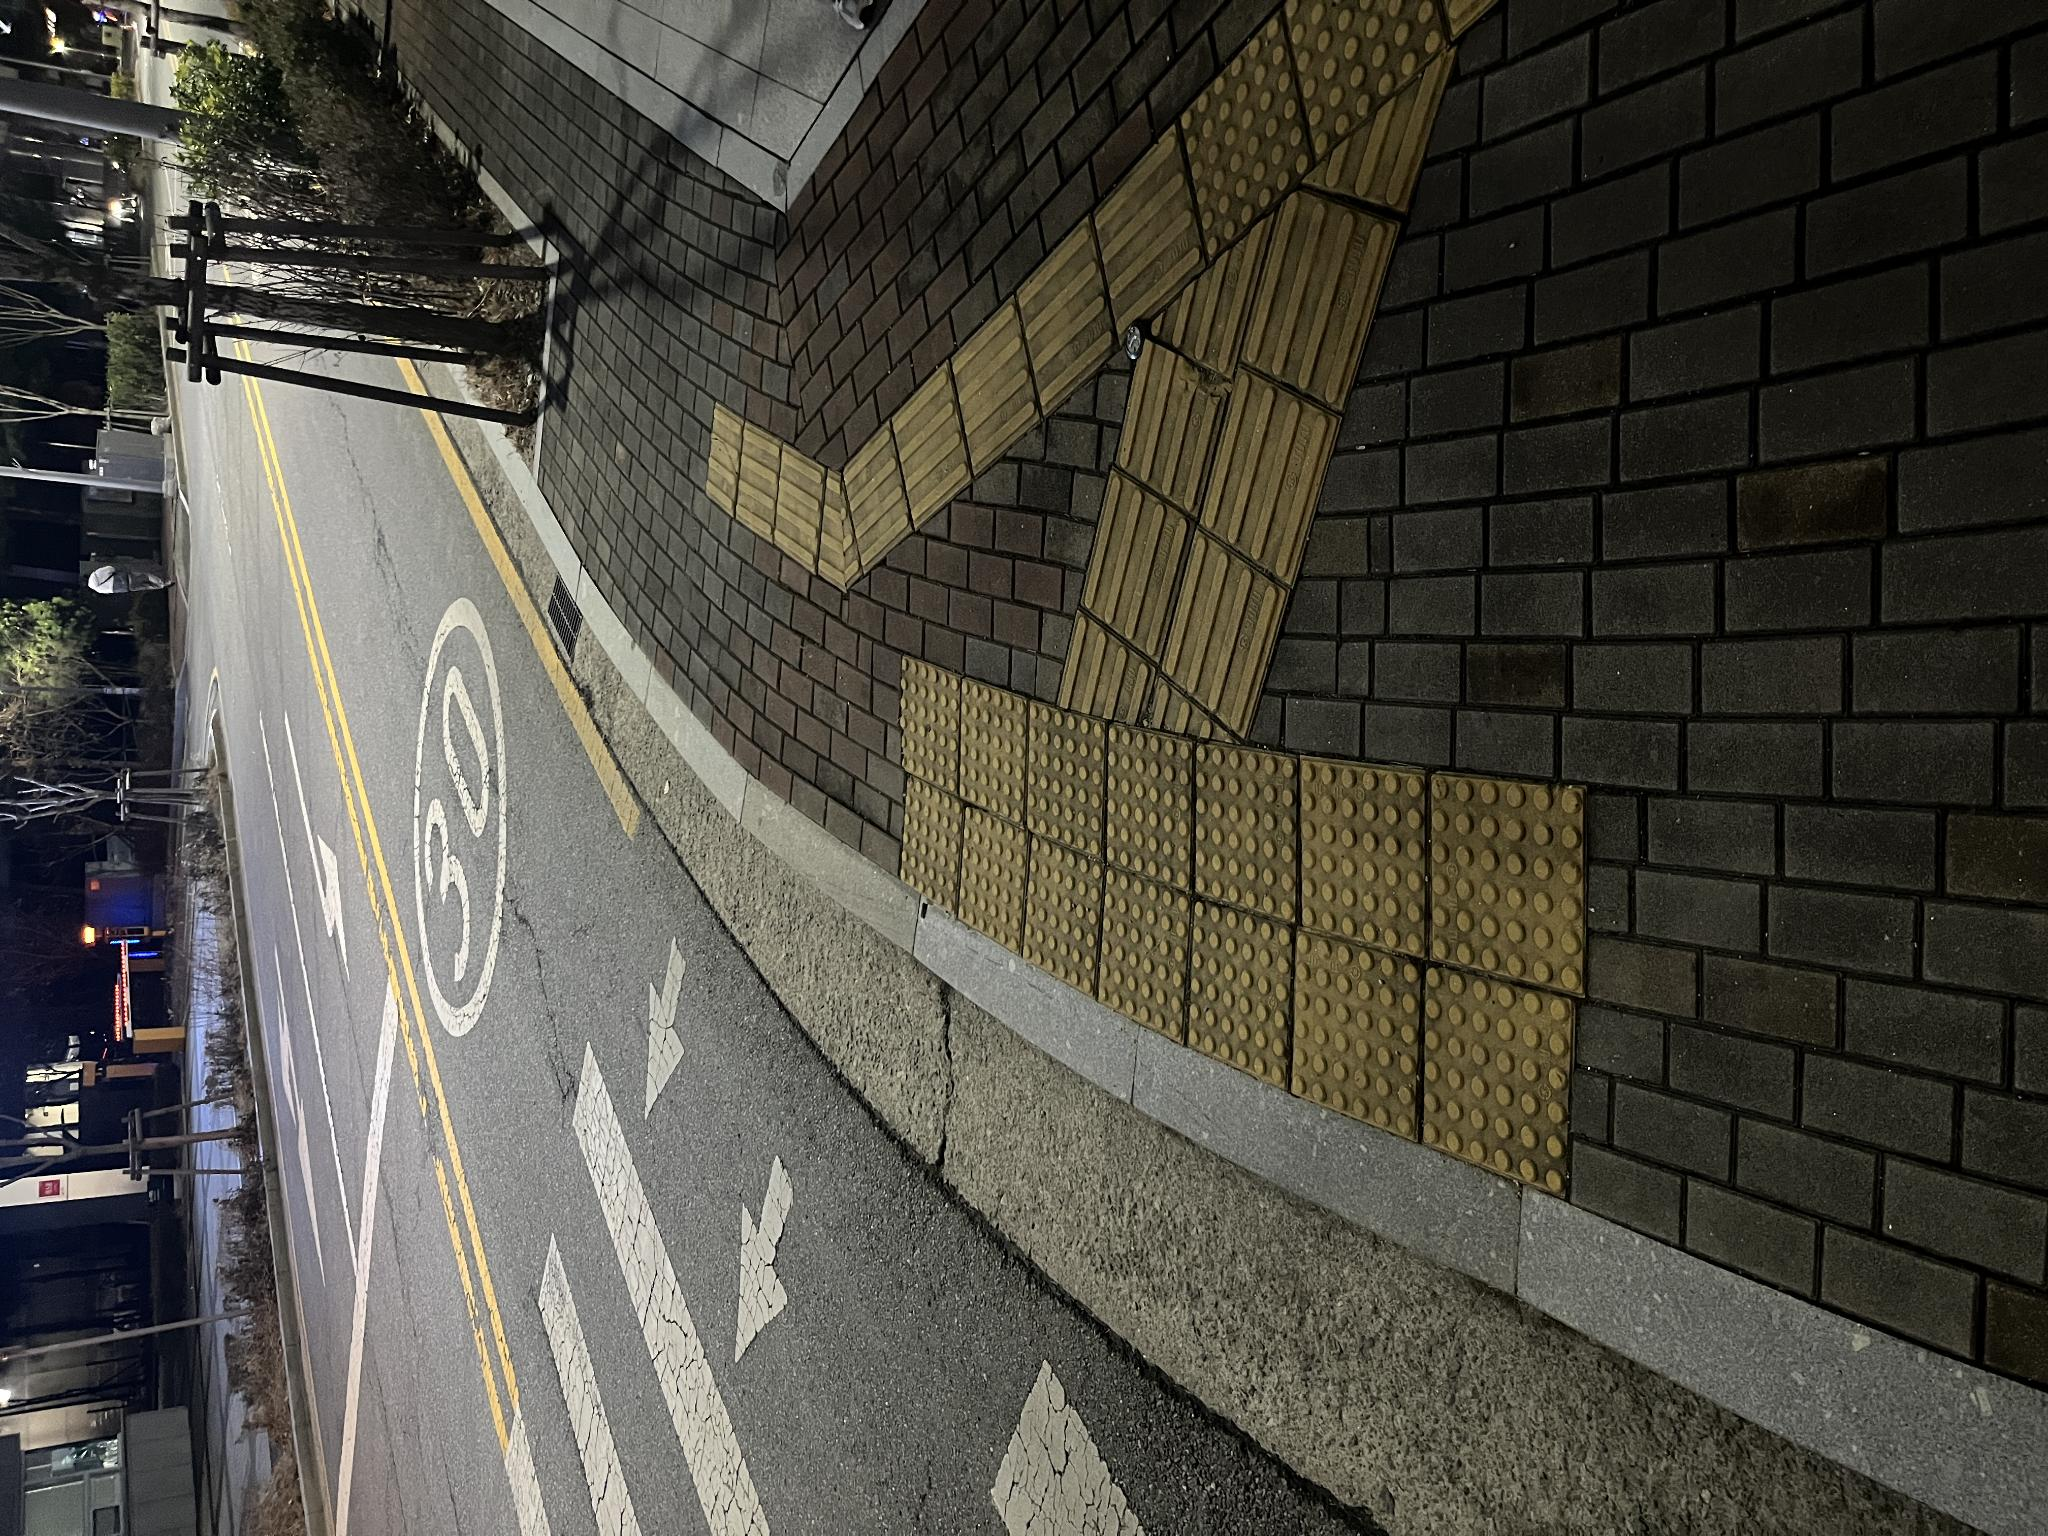Stop block normal: (397, 1291, 605, 1420), (350, 1423, 572, 1536), (577, 1300, 777, 1425), (553, 1430, 763, 1536), (445, 1189, 639, 1292), (613, 1194, 795, 1294), (492, 1099, 669, 1191), (647, 1105, 811, 1189), (539, 1025, 701, 1104), (679, 1026, 835, 1105)
Straight block broken: (1018, 1117, 1198, 1233)
Straight block normal: (951, 1200, 1169, 1336), (797, 1162, 1006, 1286), (1195, 1094, 1409, 1205), (874, 1081, 1066, 1196), (1121, 1016, 1319, 1117), (1059, 950, 1238, 1041)
